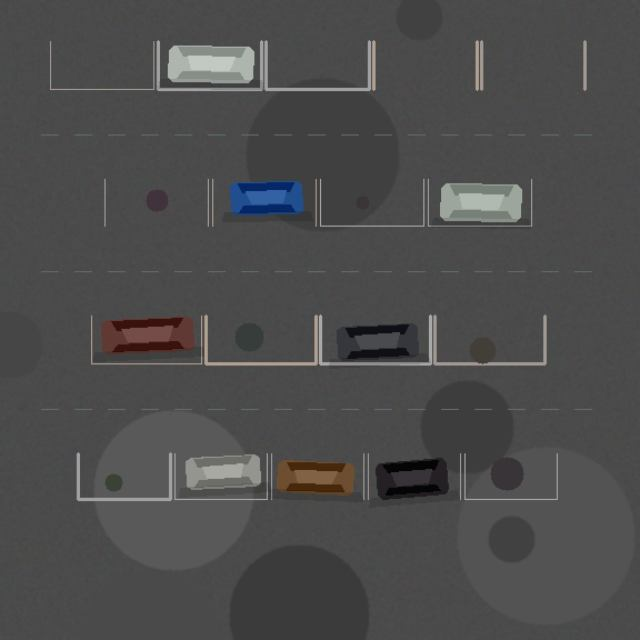space-empty: (206, 316, 316, 363), (434, 316, 544, 363), (373, 41, 477, 89), (50, 41, 153, 89), (266, 41, 369, 89), (481, 41, 584, 89), (104, 179, 208, 226), (320, 179, 423, 226), (464, 453, 557, 499), (78, 453, 170, 499)
space-occupied: (91, 316, 201, 363), (320, 316, 430, 363), (158, 41, 261, 89), (212, 179, 316, 226), (428, 179, 531, 226), (174, 453, 267, 499), (271, 453, 363, 499), (368, 453, 460, 499)
